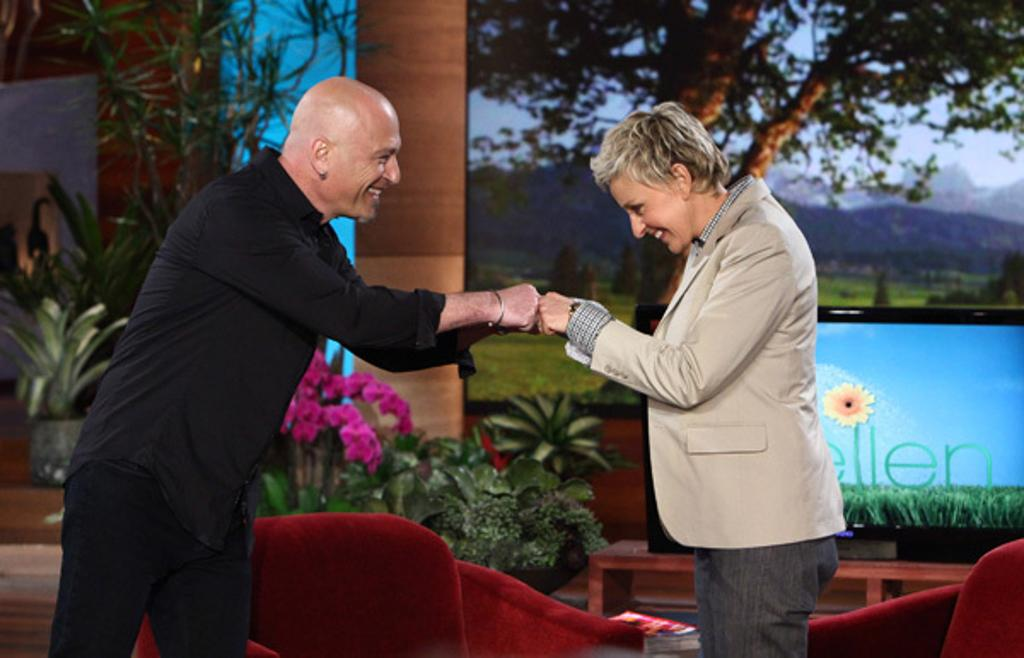face: (604, 166, 688, 252), (342, 102, 402, 216)
